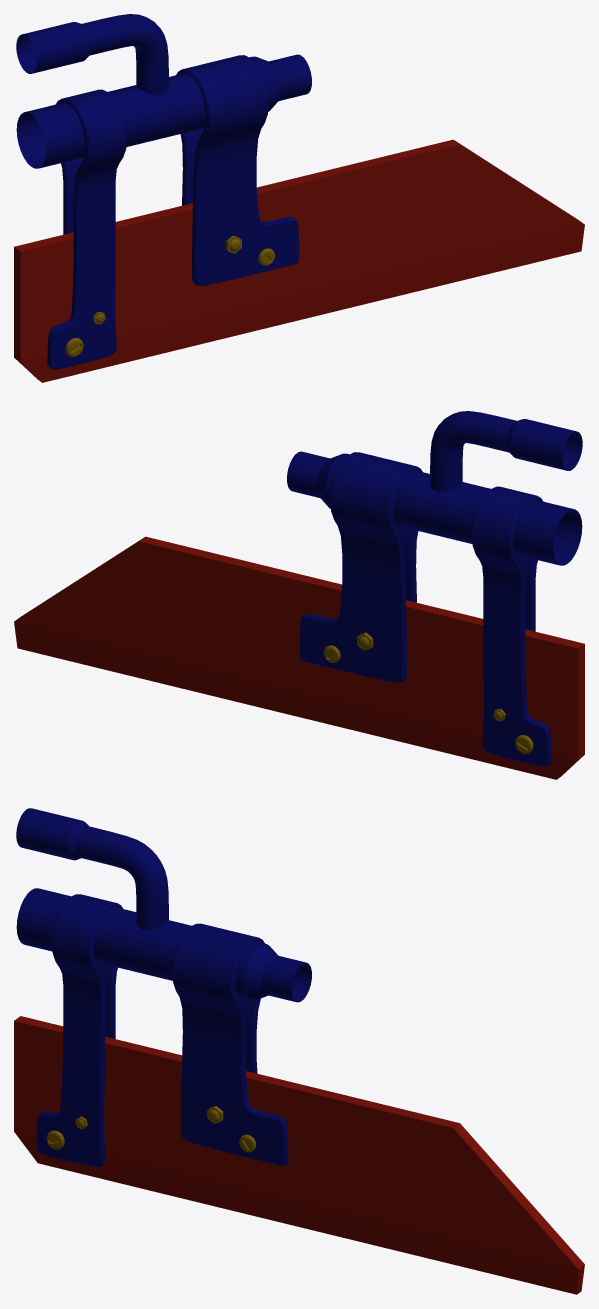
Rendered from barrel_06.fbx.
3 renders of one model, top to bottom at view 1: azimuth 30°, elevation 25°; view 2: azimuth 150°, elevation 25°; view 3: azimuth 330°, elevation 25°, orthographic.
Parts seen in each view (by area): view 1: sdas; view 2: sdas; view 3: sdas.
Boxes of the visible parts, left/top/right/bottom form: sdas: left=14, top=14, right=584, bottom=382; sdas: left=14, top=411, right=584, bottom=779; sdas: left=14, top=808, right=584, bottom=1294.
Size of the model in its own units: 78.48 by 46.34 by 9.06.
